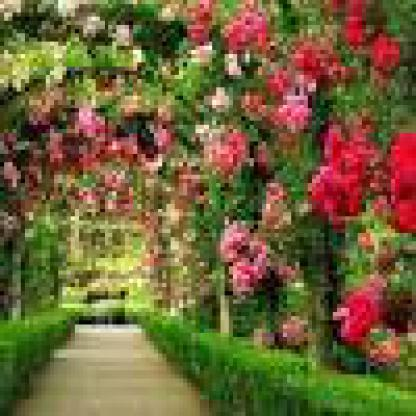Rose-Mawar: (321, 147, 367, 197)
